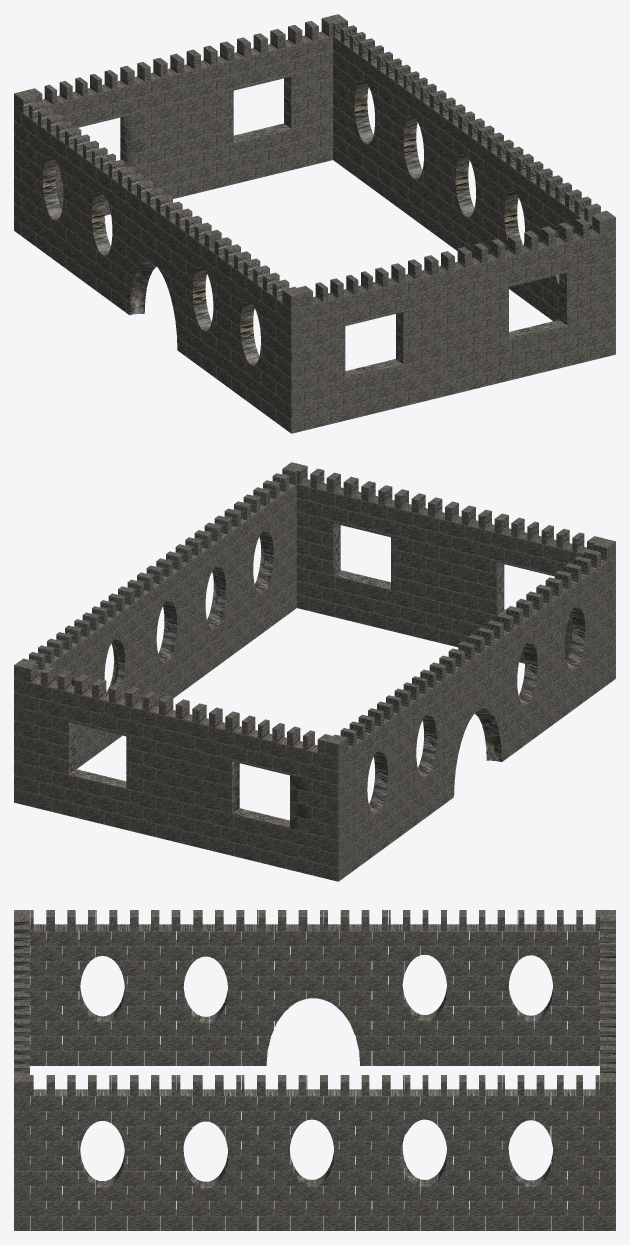
The model's file is zamek.fbx.
3 renders of one model, top to bottom at view 1: azimuth 30°, elevation 25°; view 2: azimuth 150°, elevation 25°; view 3: azimuth 270°, elevation 25°, orthographic. The views are drawn at different scales.
Parts seen in each view (by area): view 1: zamek; view 2: zamek; view 3: zamek.
Part boxes in pixels (x1=…): zamek: x1=14, y1=14, x2=615, y2=433; zamek: x1=14, y1=462, x2=615, y2=881; zamek: x1=14, y1=910, x2=615, y2=1230.
Bounding box in the file's own units: 995 × 403 × 1474.
1 material, 1 textured.
